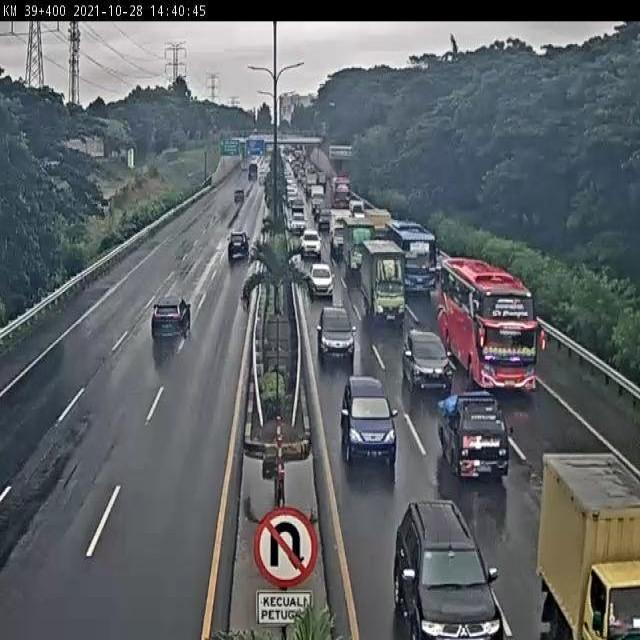bus-l-: (437, 255, 539, 396), (384, 219, 437, 296)
car: (437, 387, 512, 482), (338, 375, 397, 465), (401, 327, 455, 393), (316, 306, 356, 362), (308, 260, 336, 301), (227, 229, 250, 260)
mid truck: (148, 293, 192, 344)
truck-m-: (360, 238, 408, 322)
